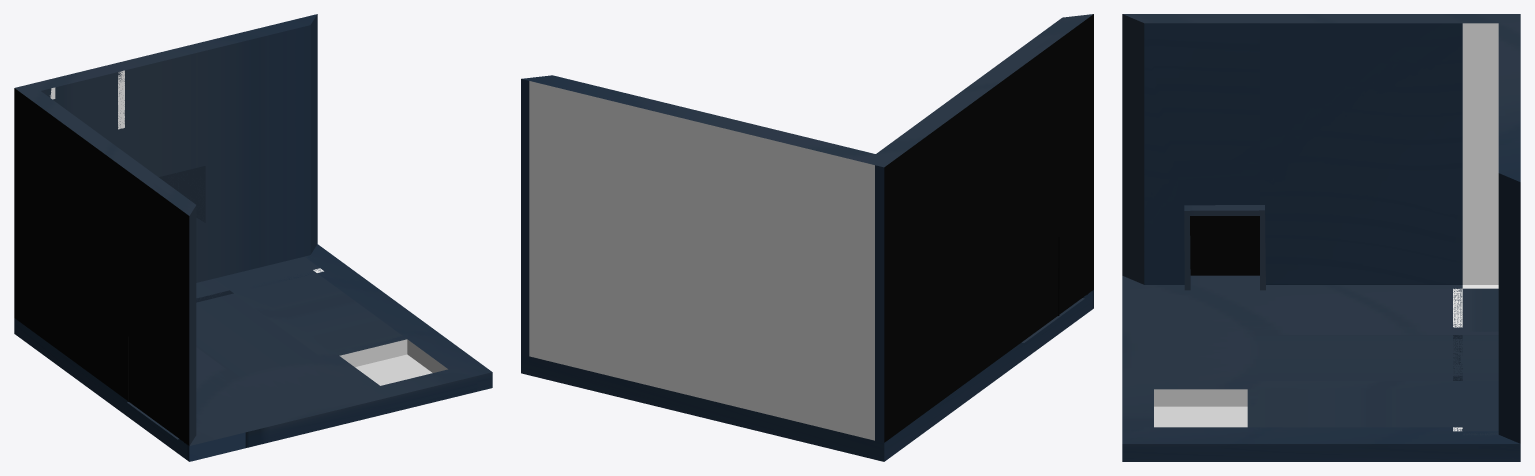
File: Rowan_Grijs_Diorama.fbx
3 renders of one model, left to right at view 1: azimuth 30°, elevation 25°; view 2: azimuth 150°, elevation 25°; view 3: azimuth 270°, elevation 25°, orthographic. The views are drawn at different scales.
Visible parts, largest first — view 1: Diorama, Wall; view 2: Diorama, Wall; view 3: Wall, Diorama.
Boxes of the visible parts, left/top/right/bottom form: Diorama: left=14, top=14, right=492, bottom=461; Wall: left=14, top=88, right=196, bottom=445; Diorama: left=521, top=75, right=1093, bottom=461; Wall: left=876, top=14, right=1093, bottom=442; Wall: left=1122, top=14, right=1519, bottom=290; Diorama: left=1122, top=14, right=1520, bottom=461.
Size of the model in its own units: 2014 by 1560 by 2000.
Materials: 5 (2 with a texture image).
